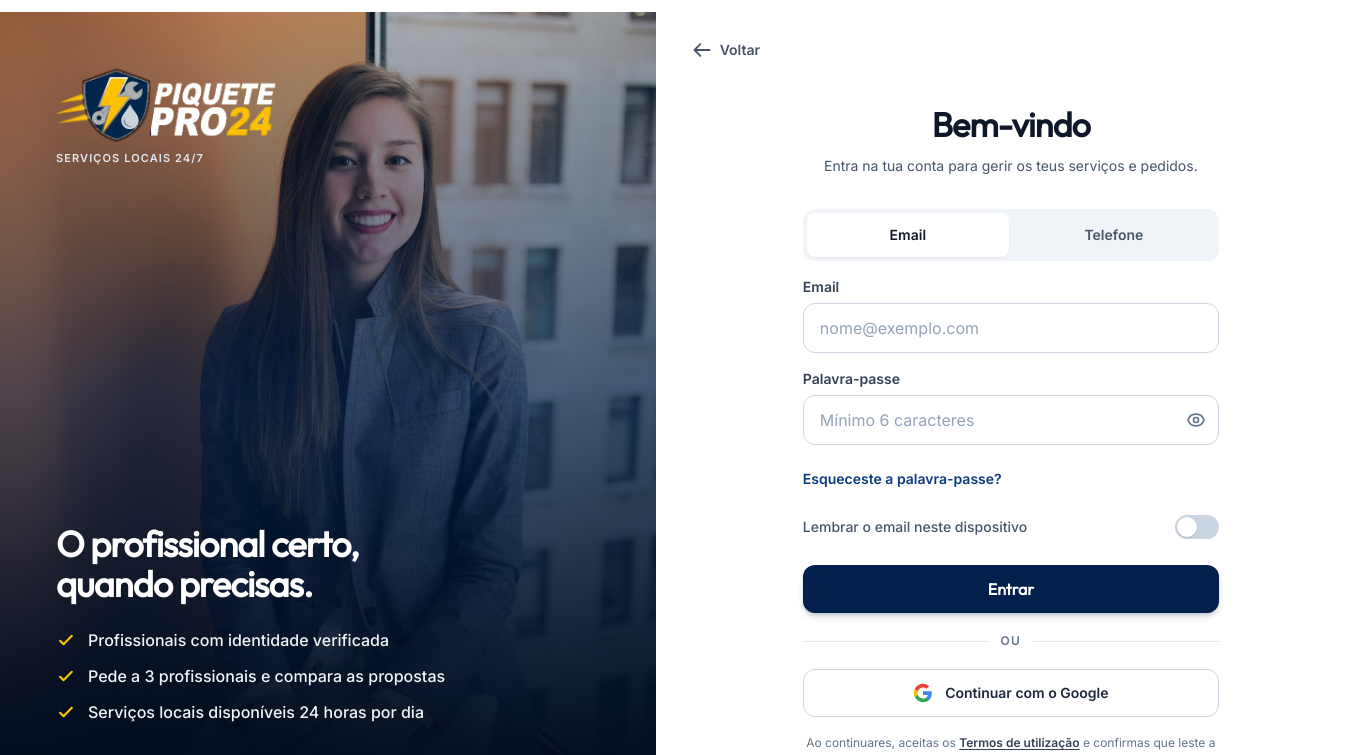
Login — texto e estrutura › alterna entre Email e Telefone
The width and height of the screenshot is (1366, 755).
expect the field labelled "Email" is shown: met, box [804, 304, 1218, 352]
Click the button "Telefone" at (1114, 235), box [1013, 213, 1215, 257]
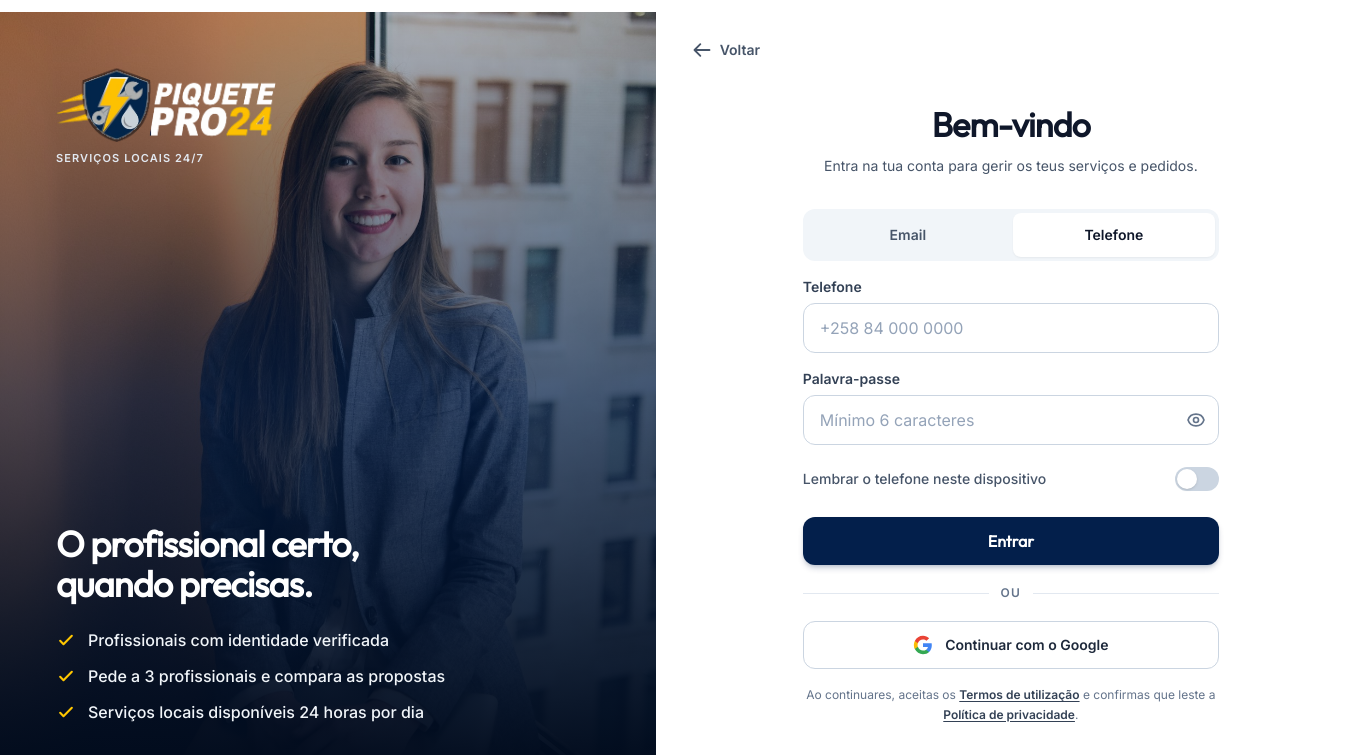
expect the field labelled "Telefone" is shown: met, box [804, 304, 1218, 352]
expect the button "Esqueceste a palavra-passe?" is gone: met
